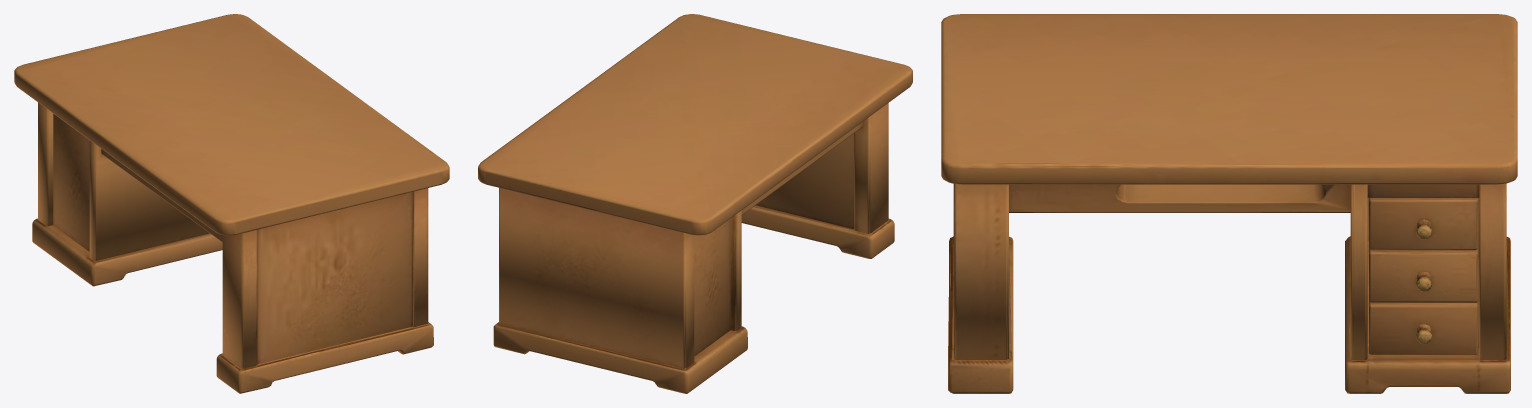
The model's file is desk-lod1.glb.
3 views of the same model, side by side, from view 1: azimuth 30°, elevation 25°; view 2: azimuth 150°, elevation 25°; view 3: azimuth 270°, elevation 25° (orthographic). The views are drawn at different scales.
Parts seen in each view (by area): view 1: tripo_part_4, tripo_part_13, tripo_part_6; view 2: tripo_part_4, tripo_part_13, tripo_part_6; view 3: tripo_part_4, tripo_part_6, tripo_part_7, tripo_part_9, tripo_part_8.
Part boxes in pixels (x1,y1,x2,y2): tripo_part_4: (14,14,449,393); tripo_part_13: (222,230,257,368); tripo_part_6: (101,149,222,242); tripo_part_4: (478,14,912,393); tripo_part_13: (854,103,888,233); tripo_part_6: (741,122,862,214); tripo_part_4: (941,14,1517,393); tripo_part_6: (1009,184,1350,212); tripo_part_7: (1369,248,1478,302); tripo_part_9: (1369,198,1478,250); tripo_part_8: (1369,300,1478,354).
Bounding box in the file's own units: 0.6281 × 0.4599 × 1.
11 materials, 11 textured.
